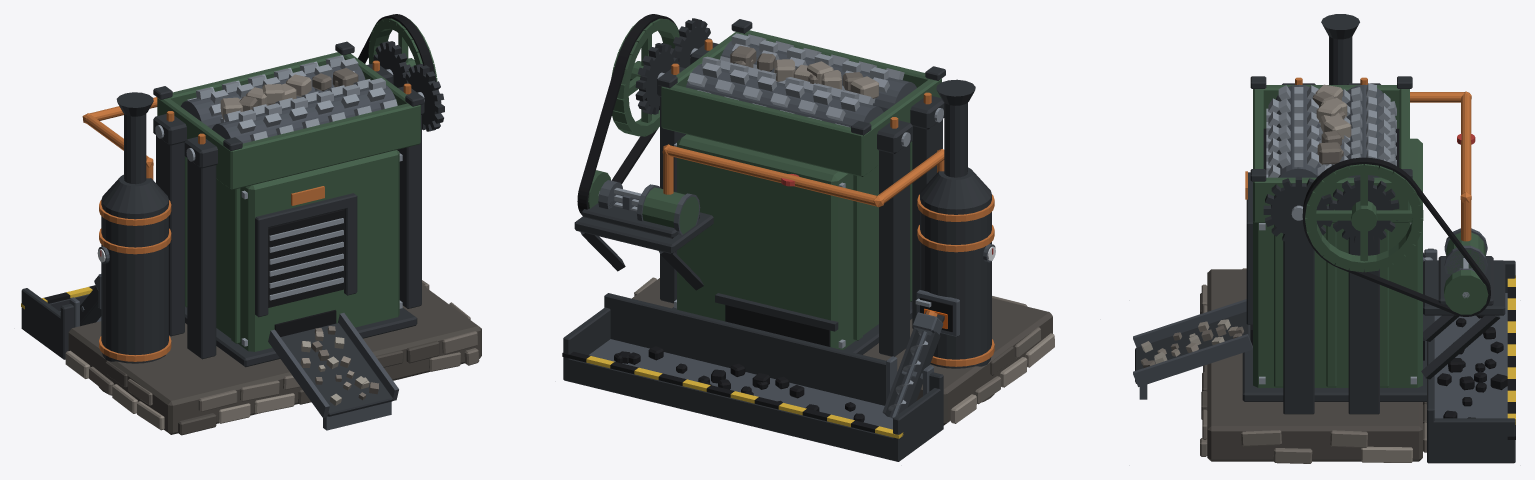
Rendered from concasseur_t1.glb.
3 views of the same model, side by side, from view 1: azimuth 30°, elevation 25°; view 2: azimuth 150°, elevation 25°; view 3: azimuth 270°, elevation 25° (orthographic). The views are drawn at different scales.
Visible parts, largest first — view 1: pieces_fonte.015, bati.004, pieces_vert_fonce.002, massif.005, chaudiere.005, pieces_pierre.009, bouche_machoires.002, pieces_pierre_claire.007, rouleau_acier.002, pieces_acier_sombre.015, pieces_acier.015, rouleau_acier_sombre.002 (+17 smaller); view 2: pieces_fonte.015, bati.004, pieces_vert_fonce.002, chaudiere.005, massif.005, bac_charbon.002, pieces_cuivre.007, volant_acier.002, pieces_noir.015, pieces_pierre_claire.007, courroie.002, volant_acier_sombre.002 (+18 smaller); view 3: pieces_fonte.015, massif.005, bati.004, pieces_vert_fonce.002, volant_vert_fonce.002, bac_charbon.002, rouleau_acier.002, pieces_acier_sombre.015, pieces_pierre.009, volant_acier.002, courroie.002, pieces_noir.015 (+16 smaller).
Boxes of the visible parts, <box> form: pieces_fonte.015: <box>21,41,424,416</box>; bati.004: <box>216,150,399,351</box>; pieces_vert_fonce.002: <box>157,52,420,343</box>; massif.005: <box>68,285,481,434</box>; chaudiere.005: <box>101,200,168,363</box>; pieces_pierre.009: <box>89,68,479,411</box>; bouche_machoires.002: <box>268,209,344,307</box>; pieces_pierre_claire.007: <box>65,74,311,430</box>; rouleau_acier.002: <box>186,78,424,161</box>; pieces_acier_sombre.015: <box>69,276,398,430</box>; pieces_acier.015: <box>241,153,402,346</box>; rouleau_acier_sombre.002: <box>212,85,395,143</box>; pieces_fonte.015: <box>563,19,967,461</box>; bati.004: <box>677,134,878,349</box>; pieces_vert_fonce.002: <box>661,30,941,340</box>; chaudiere.005: <box>920,195,991,368</box>; massif.005: <box>632,278,1052,425</box>; bac_charbon.002: <box>589,339,892,429</box>; pieces_cuivre.007: <box>662,39,944,316</box>; volant_acier.002: <box>657,56,910,146</box>; pieces_noir.015: <box>562,346,878,432</box>; pieces_pierre_claire.007: <box>774,59,1054,423</box>; courroie.002: <box>577,14,677,214</box>; volant_acier_sombre.002: <box>686,64,883,127</box>; pieces_fonte.015: <box>1135,36,1515,462</box>; massif.005: <box>1207,269,1422,461</box>; bati.004: <box>1253,138,1422,387</box>; pieces_vert_fonce.002: <box>1253,85,1409,387</box>; volant_vert_fonce.002: <box>1305,164,1423,272</box>; bac_charbon.002: <box>1434,293,1507,418</box>; rouleau_acier.002: <box>1266,85,1331,220</box>; pieces_acier_sombre.015: <box>1133,249,1472,399</box>; pieces_pierre.009: <box>1200,91,1426,463</box>; volant_acier.002: <box>1331,83,1396,165</box>; courroie.002: <box>1302,157,1490,316</box>; pieces_noir.015: <box>1437,287,1515,439</box>.
Bounding box in the file's own units: 1.5 × 1.27 × 1.5.
